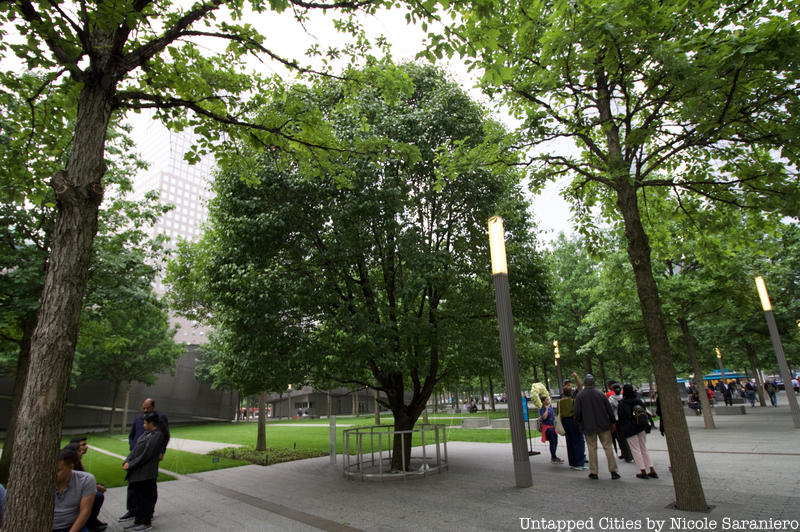tree: (419, 3, 800, 511), (188, 63, 549, 486)
